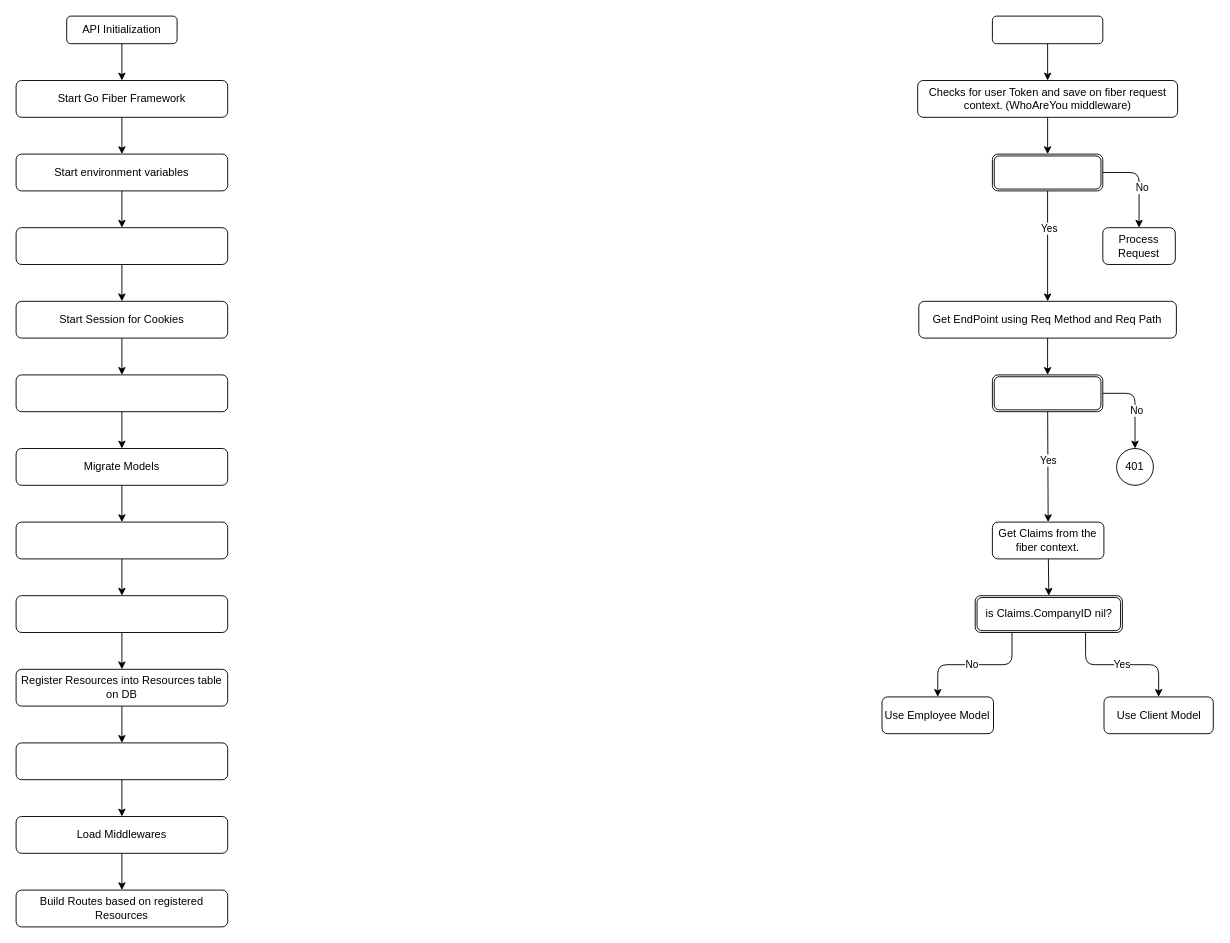
The diagram is 1230 pixels wide and 943 high, and some of its shapes have lost their labels. The centre of each missing label's shape, as x and y in pixels:
API Request: point 1047,29
Connect to Postgres Database: point 121,245
EndPoint found?: point 1047,393
Is Private Route?: point 1047,172
Seed System Default Policies based on system roles into Policies Table: point 121,761
Seed System Default Roles into Roles Table: point 121,540
Seed System Default Roles into Roles Table and load them into global variables: point 121,613
Start Google Auth Client: point 121,393
